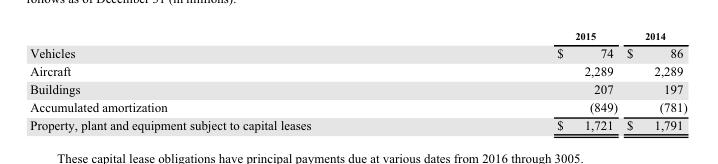table: (29, 28, 686, 133)
table column: (29, 28, 433, 133), (433, 28, 621, 133), (621, 28, 686, 133)
table column header: (29, 28, 686, 43)
table row: (29, 43, 686, 61), (29, 61, 686, 79), (29, 79, 686, 97), (29, 97, 686, 115), (29, 115, 686, 133), (29, 28, 686, 43)
